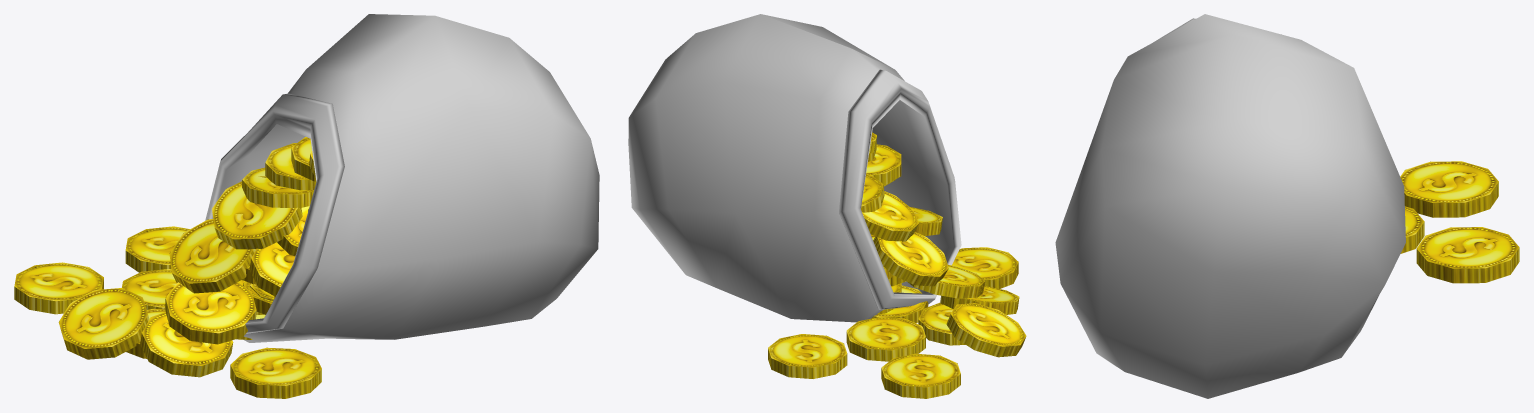
Rendered from sack_coin_0041.fbx.
3 renders of one model, left to right at view 1: azimuth 30°, elevation 25°; view 2: azimuth 150°, elevation 25°; view 3: azimuth 270°, elevation 25°, orthographic. The views are drawn at different scales.
Parts seen in each view (by area): view 1: sack_coin_0041; view 2: sack_coin_0041; view 3: sack_coin_0041.
Boxes of the visible parts, bbox=[...] form: sack_coin_0041: bbox=[14, 14, 599, 398]; sack_coin_0041: bbox=[628, 14, 1026, 398]; sack_coin_0041: bbox=[1055, 14, 1519, 398].
Bounding box in the file's own units: 24.99 × 15.33 × 19.16.
